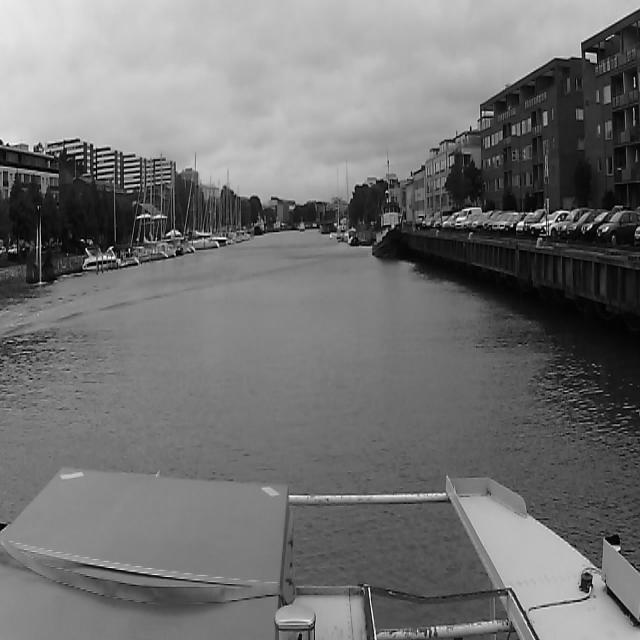ship: (123, 179, 171, 263), (371, 161, 404, 257), (190, 152, 220, 250), (113, 162, 139, 266), (143, 163, 169, 260), (160, 173, 178, 255), (330, 165, 346, 241), (83, 248, 117, 271), (299, 221, 305, 232)
